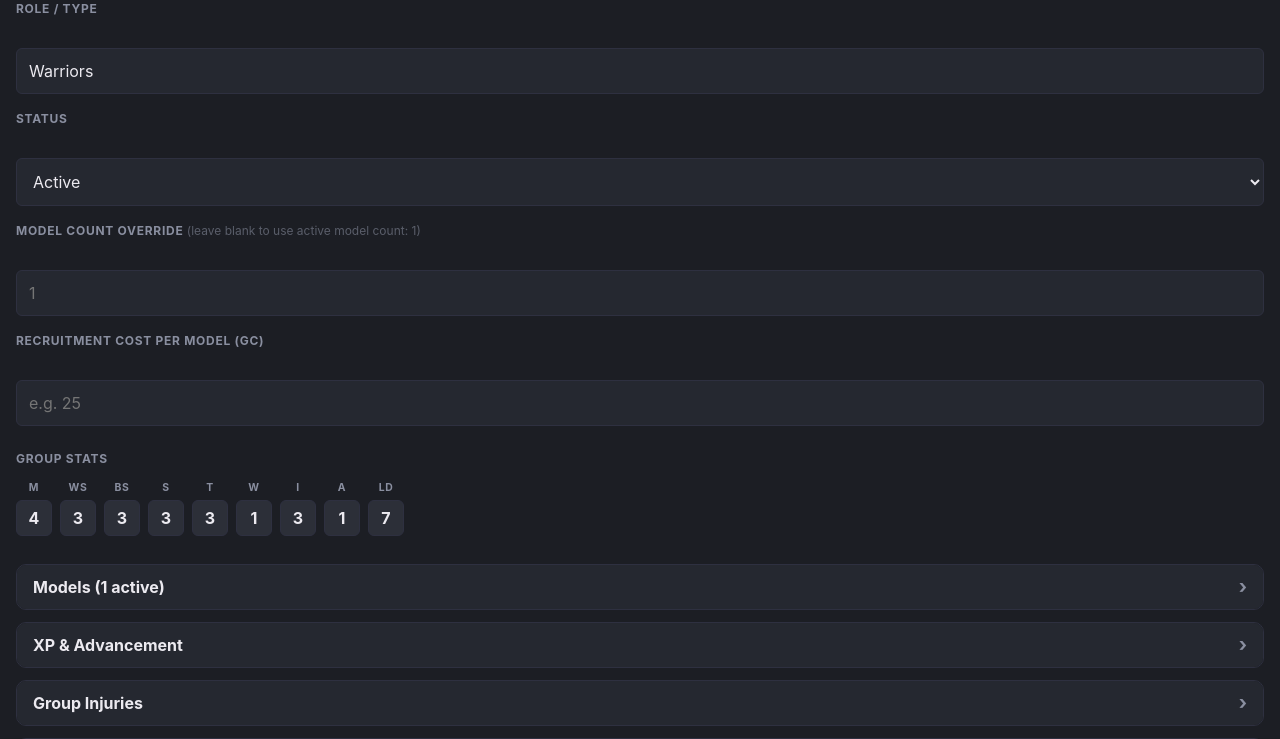
Test: HenchmanGroupDetailPage › shows stat deviation with effective value when non-zero
(page scrolled)
Click the button "Models (1 active) ›": (99, 587) [17,565,1263,609]
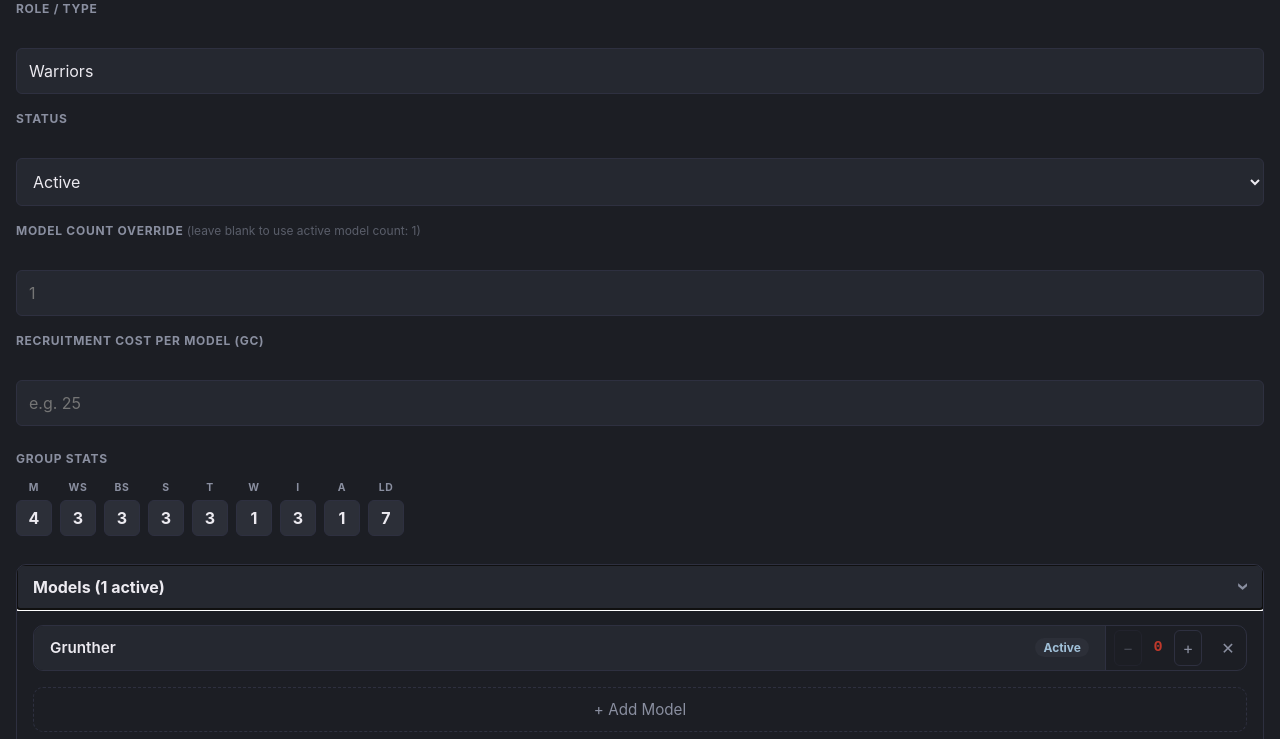
Click the button "Grunther Active": (83, 648) [34,626,1105,670]
(page scrolled)
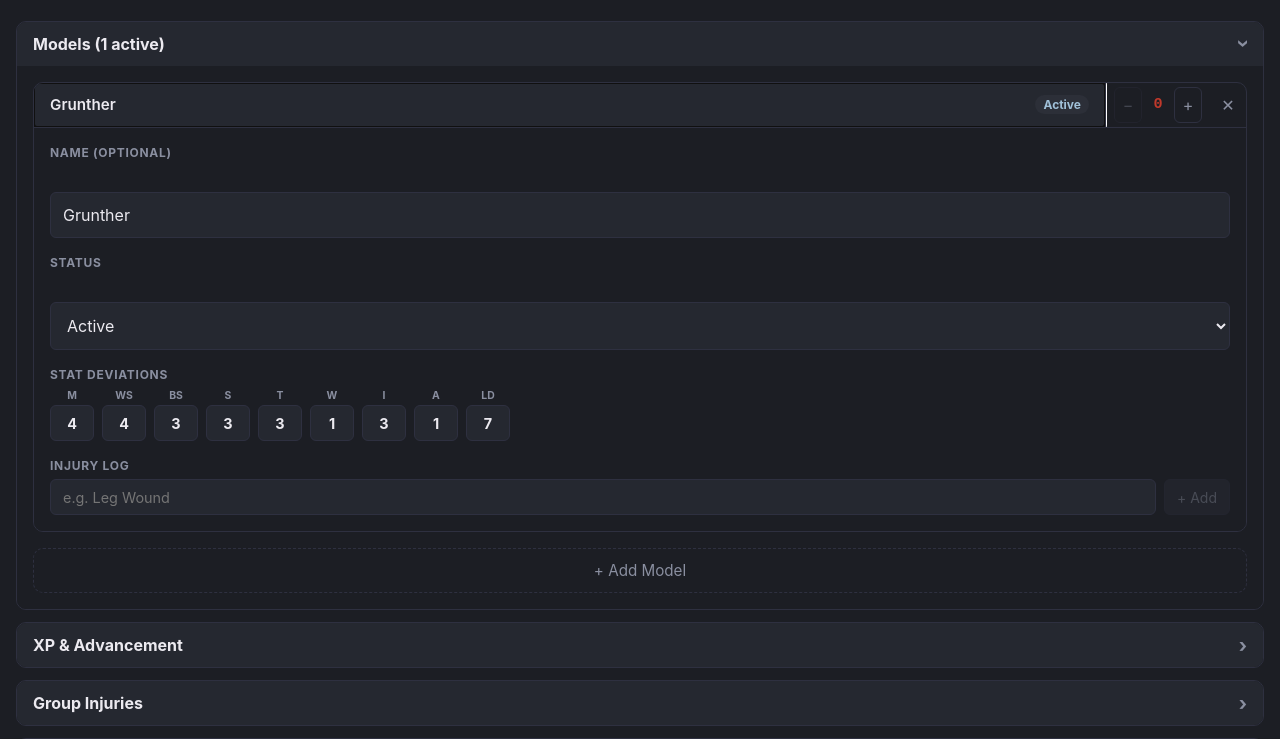
Check: the number field named "WS stat" holds "4", box [102,405,146,441]
